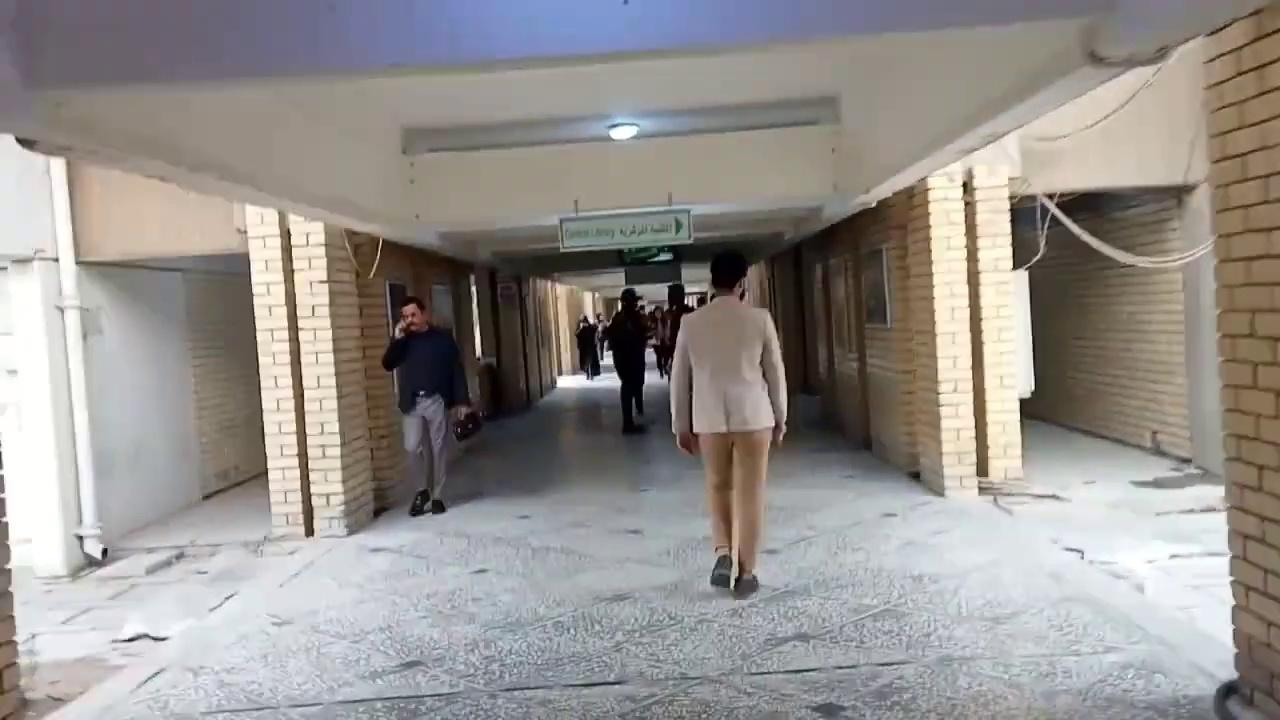person: (669, 249, 788, 599), (380, 295, 472, 516), (606, 287, 654, 434)
